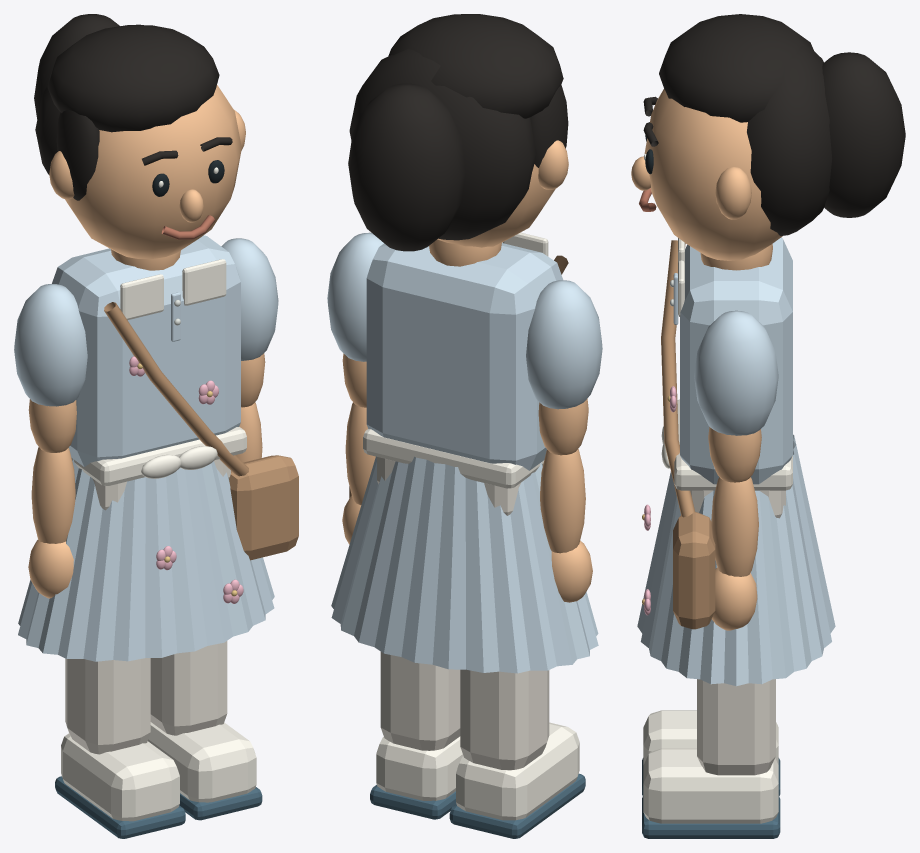
File: mom.glb
3 renders of one model, left to right at view 1: azimuth 30°, elevation 25°; view 2: azimuth 150°, elevation 25°; view 3: azimuth 270°, elevation 25°, orthographic. The views are drawn at different scales.
Parts seen in each view (by area): view 1: FamilyRoot_Geometry, Leg_L_Geometry, Leg_R_Geometry, Arm_L_Geometry, Elbow_L_Geometry, Arm_R_Geometry, Elbow_R_Geometry; view 2: FamilyRoot_Geometry, Leg_L_Geometry, Leg_R_Geometry, Arm_L_Geometry, Elbow_L_Geometry, Arm_R_Geometry, Elbow_R_Geometry; view 3: FamilyRoot_Geometry, Leg_R_Geometry, Arm_R_Geometry, Elbow_R_Geometry, Leg_L_Geometry.
Part boxes in pixels (box(x1,y1,x2,y2)): FamilyRoot_Geometry: box(18, 14, 298, 661); Leg_L_Geometry: box(55, 658, 185, 838); Leg_R_Geometry: box(148, 641, 262, 820); Arm_L_Geometry: box(14, 284, 87, 452); Elbow_L_Geometry: box(28, 447, 75, 598); Arm_R_Geometry: box(221, 238, 278, 407); Elbow_R_Geometry: box(236, 402, 262, 462); FamilyRoot_Geometry: box(331, 14, 598, 673); Leg_L_Geometry: box(449, 669, 585, 838); Leg_R_Geometry: box(370, 652, 463, 819); Arm_L_Geometry: box(526, 280, 602, 455); Elbow_L_Geometry: box(540, 449, 592, 602); Arm_R_Geometry: box(327, 232, 383, 407); Elbow_R_Geometry: box(342, 402, 375, 544); FamilyRoot_Geometry: box(631, 14, 905, 686); Leg_R_Geometry: box(642, 679, 780, 838); Arm_R_Geometry: box(694, 310, 778, 482); Elbow_R_Geometry: box(711, 477, 758, 630); Leg_L_Geometry: box(642, 710, 780, 796).
Size of the model in its own units: 1.07 by 3.02 by 0.973.
